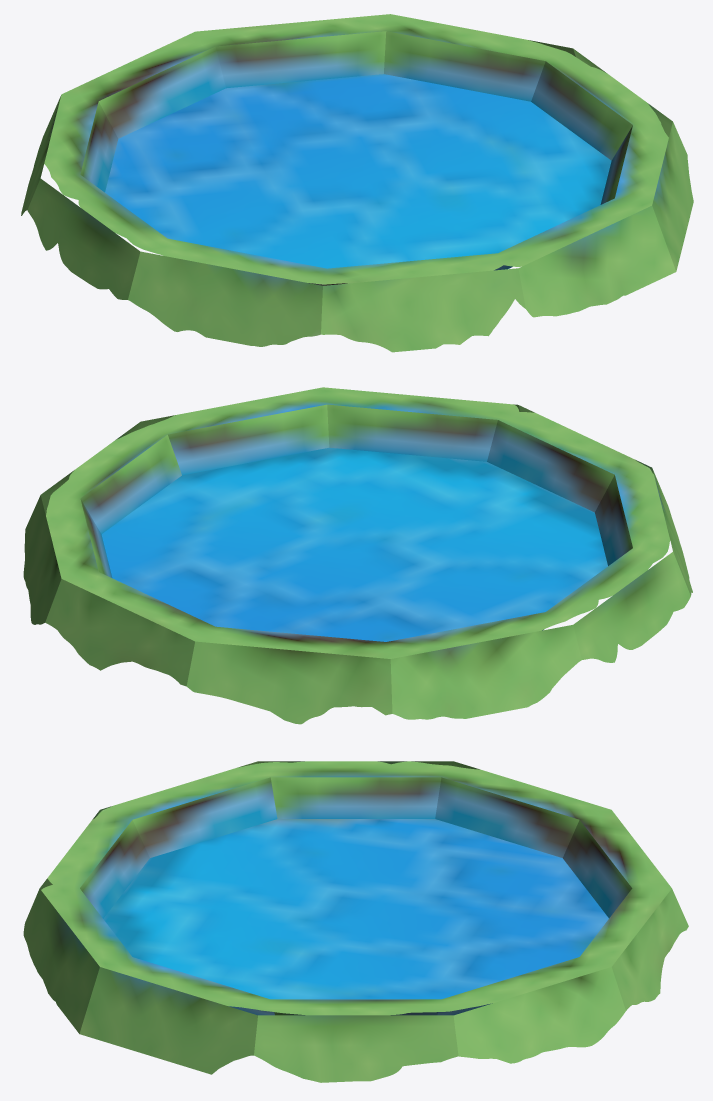
The model's file is Poly_World_Map_Pond_01.obj.
The picture shows the model from 3 angles, top to bottom: view 1: azimuth 30°, elevation 25°; view 2: azimuth 150°, elevation 25°; view 3: azimuth 270°, elevation 25°; orthographic projection. The views are drawn at different scales.
Visible parts, largest first — view 1: Grid.001, Grid.002; view 2: Grid.001, Grid.002; view 3: Grid.001, Grid.002.
Part boxes in pixels (<box>): Grid.001: <box>21,14,693,352</box>; Grid.002: <box>105,74,611,268</box>; Grid.001: <box>23,387,692,724</box>; Grid.002: <box>101,447,607,641</box>; Grid.001: <box>23,761,688,1082</box>; Grid.002: <box>103,819,608,999</box>.
Bounding box in the file's own units: 0.8064 × 0.0829 × 0.8479.
1 material, 1 textured.
